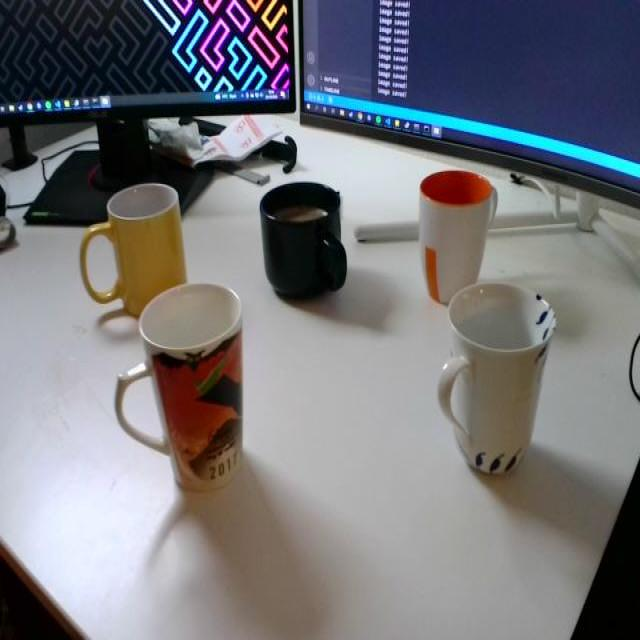cup: (106, 278, 259, 494), (430, 273, 560, 490), (70, 173, 201, 330), (255, 170, 356, 322), (412, 155, 502, 315)
